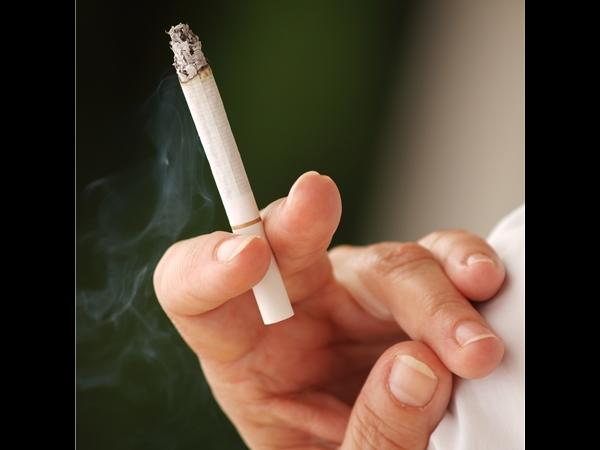Cigarette: (167, 24, 296, 326)
